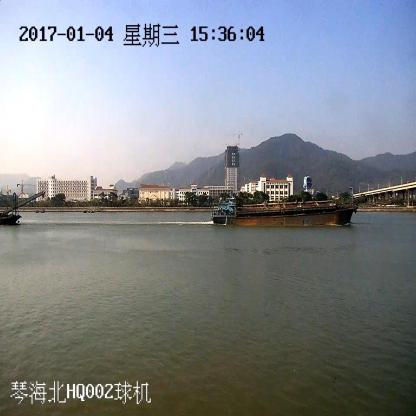Bulk Carrier: (212, 198, 356, 226)
